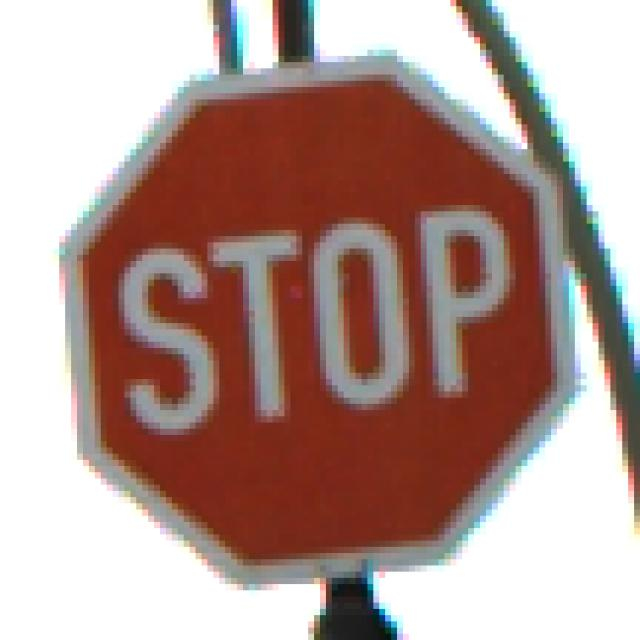STOP: (54, 57, 588, 585)
